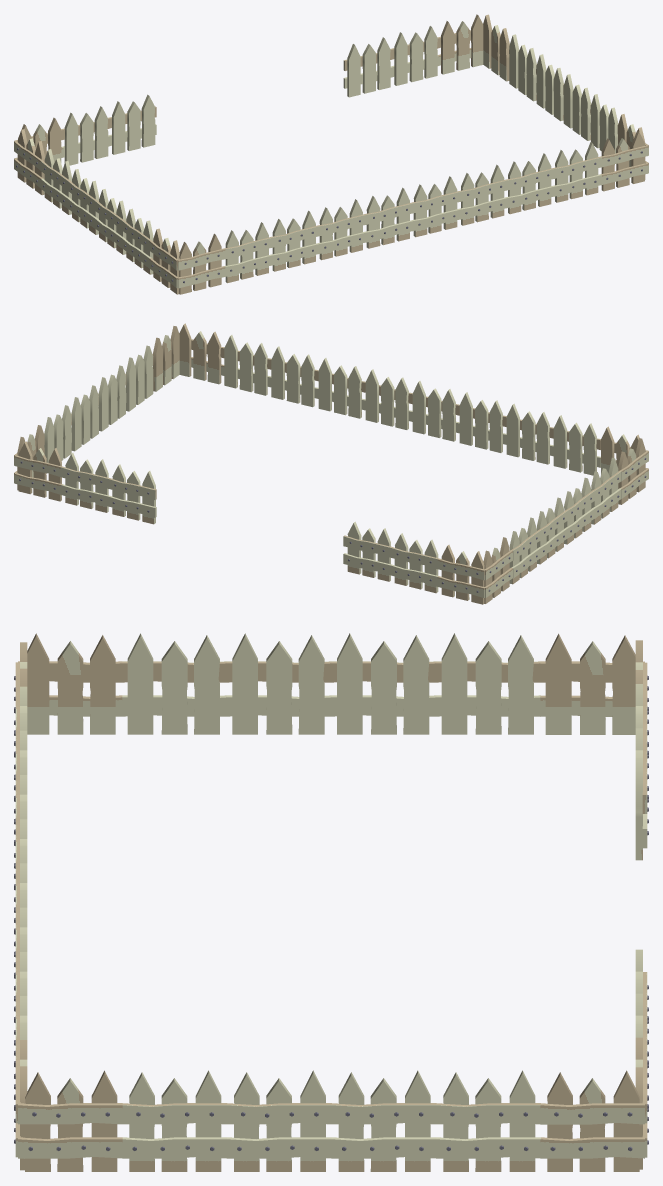
Rendered from valla_padre.fbx.
The picture shows the model from 3 angles, top to bottom: view 1: azimuth 30°, elevation 25°; view 2: azimuth 150°, elevation 25°; view 3: azimuth 270°, elevation 25°; orthographic projection. The views are drawn at different scales.
Parts seen in each view (by area): view 1: Valla_01.004, Valla_01.002, Valla_01.001, Valla_01, valla_padre, Valla_02.001, Valla_03, Valla_03.001, Valla_02; view 2: Valla_01.004, Valla_01.002, Valla_01.001, valla_padre, Valla_01, Valla_02, Valla_03.001, Valla_03, Valla_02.001; view 3: Valla_01.002, Valla_01.001, Valla_03.001, Valla_03, Valla_02, Valla_02.001, Valla_01.004, valla_padre, Valla_01.
Part boxes in pixels (left/top/right/bottom): Valla_01.004: left=224, top=142, right=601, bottom=283; Valla_01.002: left=41, top=149, right=153, bottom=274; Valla_01.001: left=509, top=34, right=618, bottom=153; Valla_01: left=343, top=26, right=438, bottom=97; valla_padre: left=61, top=94, right=156, bottom=165; Valla_02.001: left=149, top=228, right=225, bottom=294; Valla_03: left=438, top=14, right=509, bottom=81; Valla_03.001: left=601, top=114, right=648, bottom=191; Valla_02: left=14, top=117, right=62, bottom=195; Valla_01.004: left=224, top=335, right=600, bottom=475; Valla_01.002: left=509, top=458, right=621, bottom=584; Valla_01.001: left=44, top=345, right=153, bottom=462; valla_padre: left=343, top=521, right=438, bottom=593; Valla_01: left=61, top=453, right=156, bottom=524; Valla_02: left=437, top=537, right=512, bottom=604; Valla_03.001: left=152, top=323, right=224, bottom=391; Valla_03: left=14, top=425, right=62, bottom=501; Valla_02.001: left=600, top=426, right=648, bottom=504; Valla_01.002: left=122, top=633, right=540, bottom=734; Valla_01.001: left=122, top=1070, right=540, bottom=1171; Valla_03.001: left=14, top=1040, right=122, bottom=1171; Valla_03: left=540, top=1037, right=648, bottom=1171; Valla_02: left=540, top=633, right=648, bottom=746; Valla_02.001: left=14, top=633, right=122, bottom=745; Valla_01.004: left=14, top=686, right=27, bottom=1099; valla_padre: left=635, top=684, right=648, bottom=860; Valla_01: left=635, top=949, right=648, bottom=1100.
Bounding box in the file's own units: 971 × 100 × 585.
